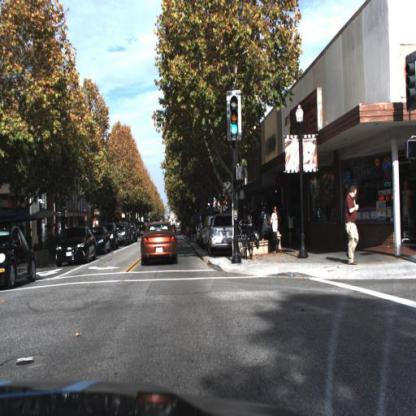car: (1, 225, 38, 292), (51, 225, 98, 272), (57, 223, 99, 268), (141, 219, 180, 267), (207, 211, 236, 263), (207, 212, 235, 257), (92, 219, 110, 261), (98, 225, 111, 256), (108, 223, 120, 252), (201, 214, 211, 247), (119, 222, 131, 246)
pedestrian: (346, 183, 360, 266), (268, 203, 286, 248), (262, 217, 278, 256), (271, 206, 279, 235), (288, 212, 294, 243)
trafficLight: (226, 91, 242, 143)
